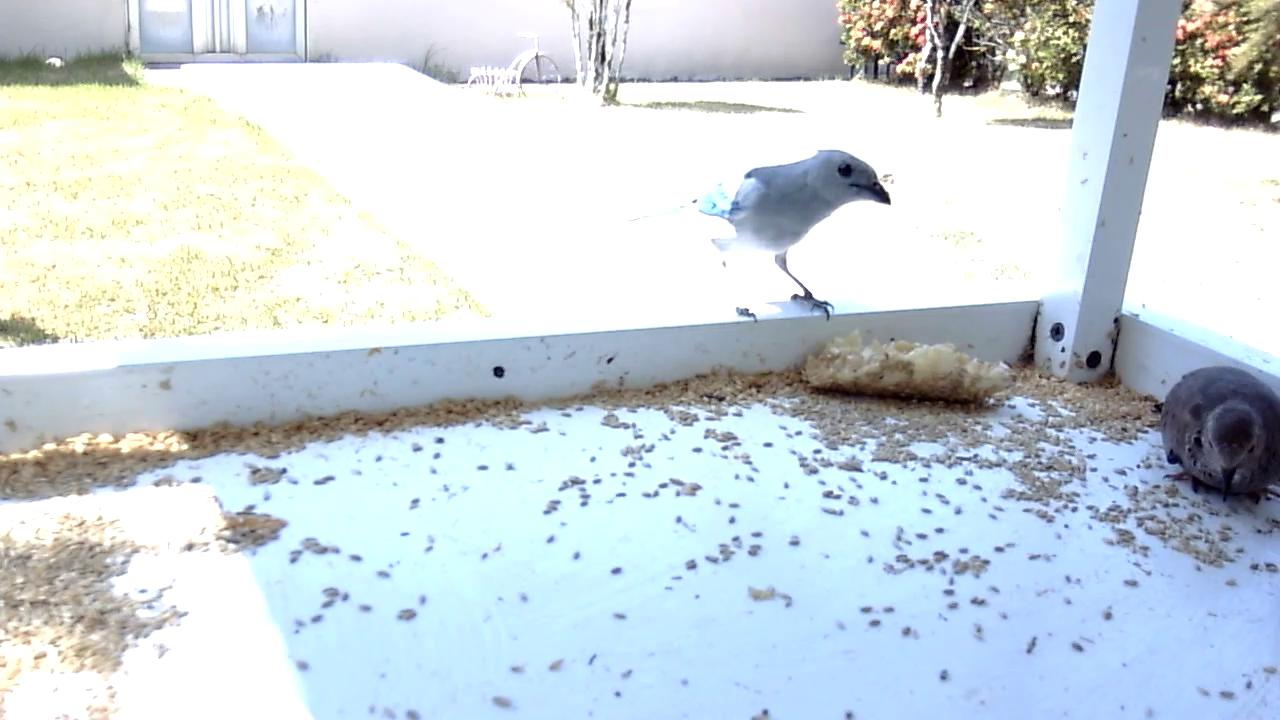rolinha: (1160, 364, 1280, 507)
sanhaco_da_amazonia: (672, 149, 896, 327)
